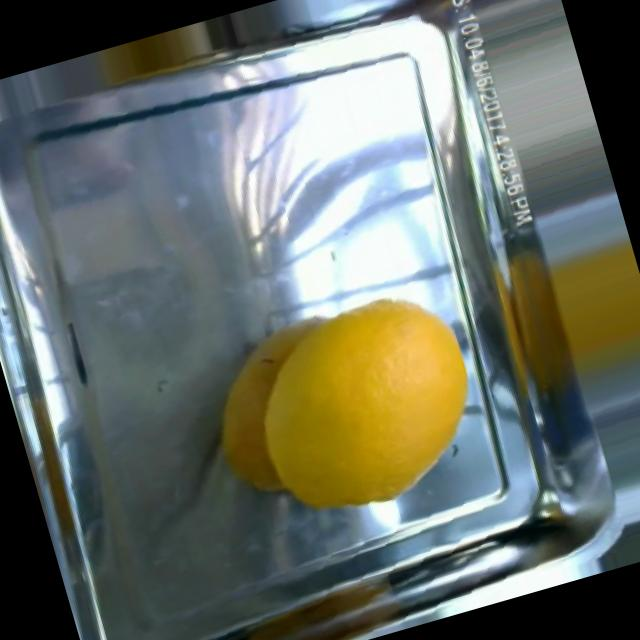Fruit: (81, 13, 242, 96)
